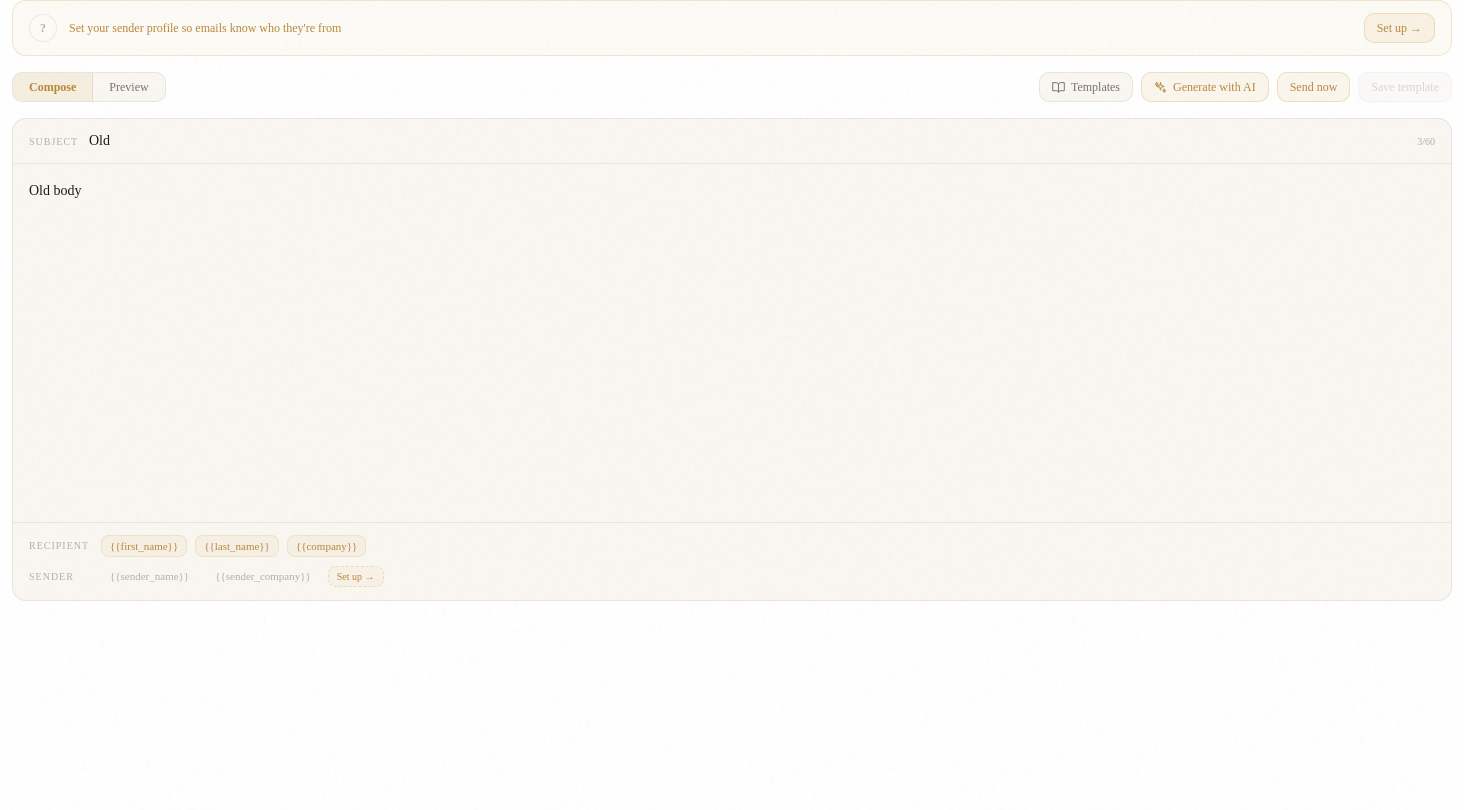
EmailComposer › Save template is enabled after editing subject
Type "x" into the field named "email subject" at (747, 141), box [89,131,1405,151]
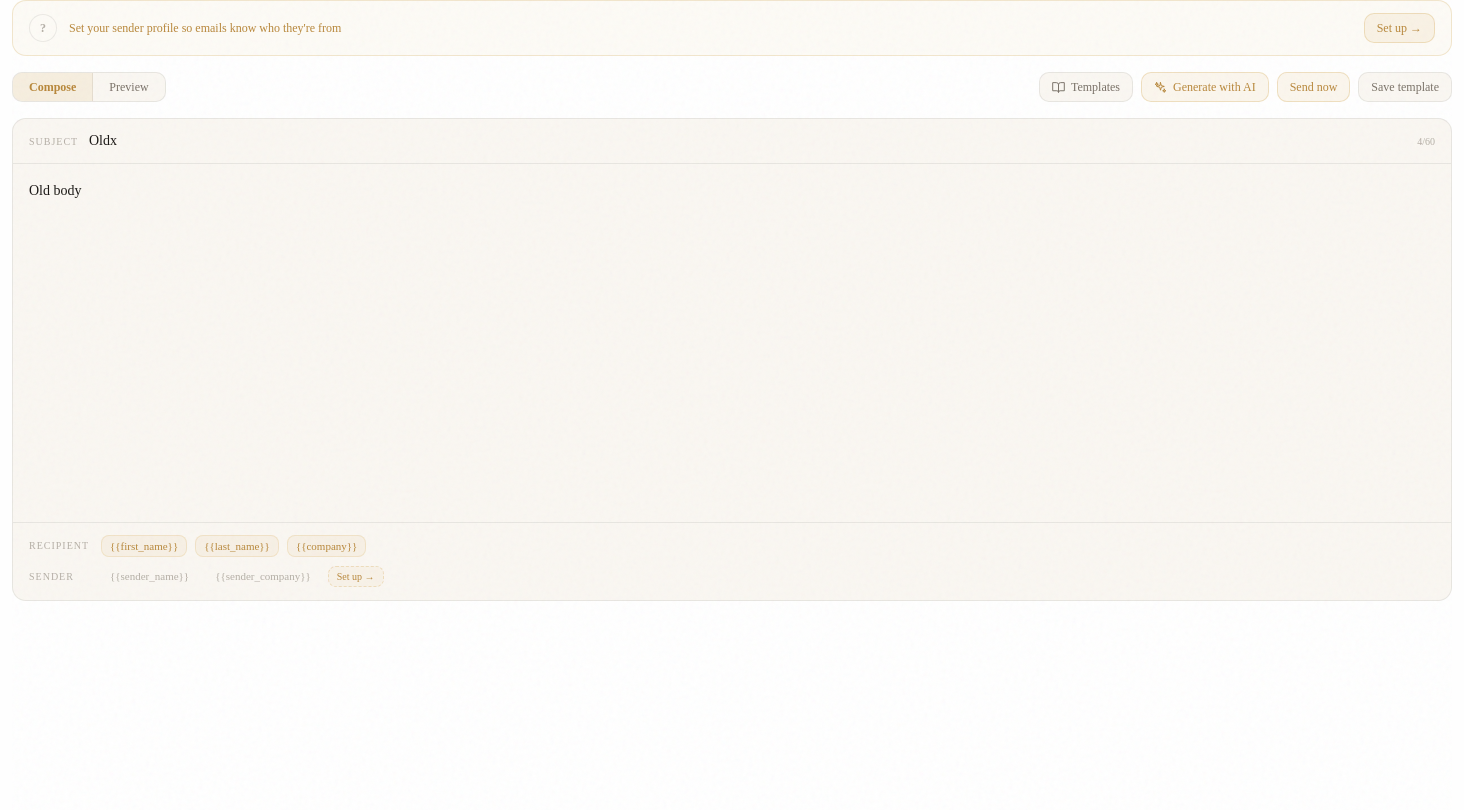
Now the button "Save template" is enabled, box [1358,72,1452,102]
